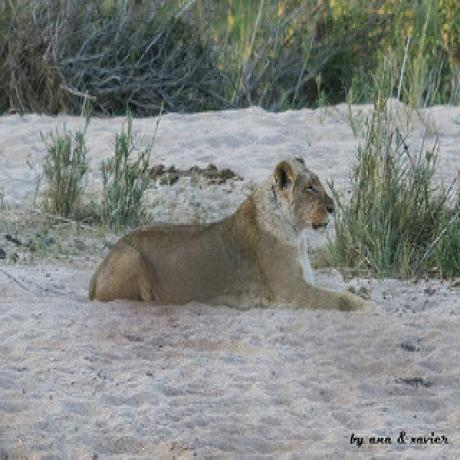Lion: (90, 148, 368, 317)
